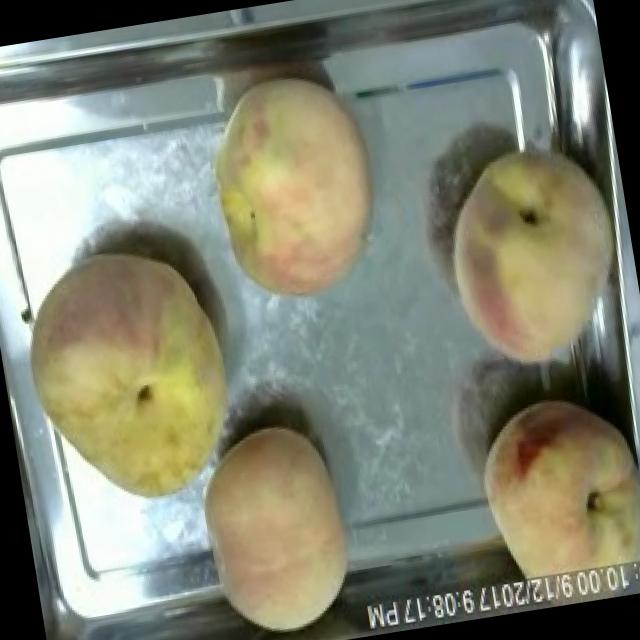Fruit: (0, 226, 259, 530), (419, 125, 638, 386), (188, 57, 400, 318), (179, 406, 376, 640), (457, 376, 640, 589)
